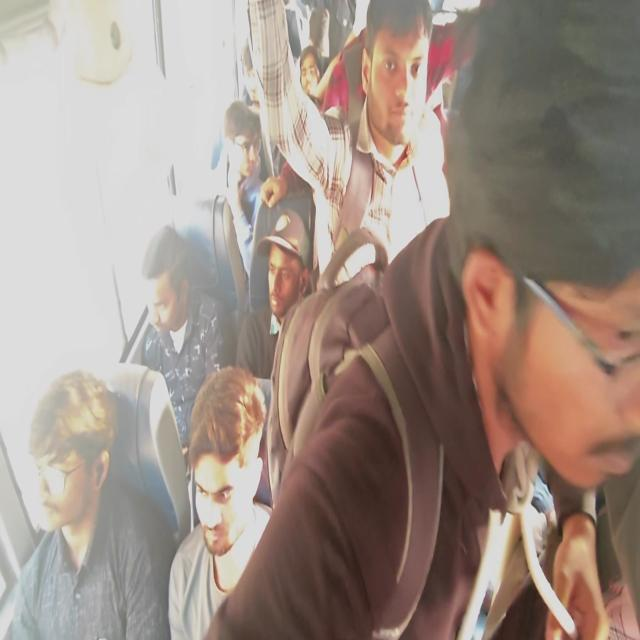person: (435, 47, 640, 500), (28, 388, 162, 557), (361, 11, 457, 230), (180, 372, 270, 569), (134, 225, 211, 362), (209, 75, 268, 202), (288, 36, 338, 144), (255, 224, 308, 318), (305, 12, 337, 64)
